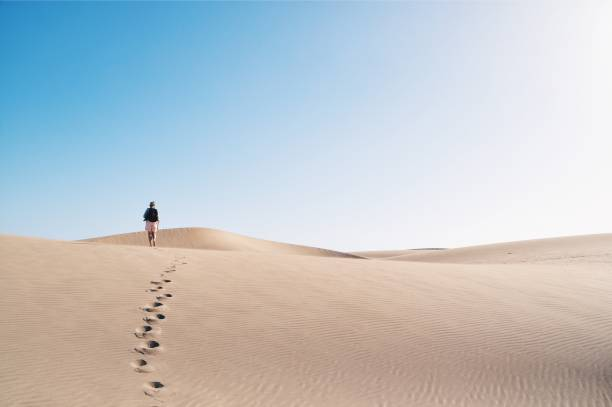human_footprint: (130, 258, 182, 372), (135, 339, 161, 353), (134, 324, 160, 337), (131, 358, 152, 372), (143, 313, 165, 323)
